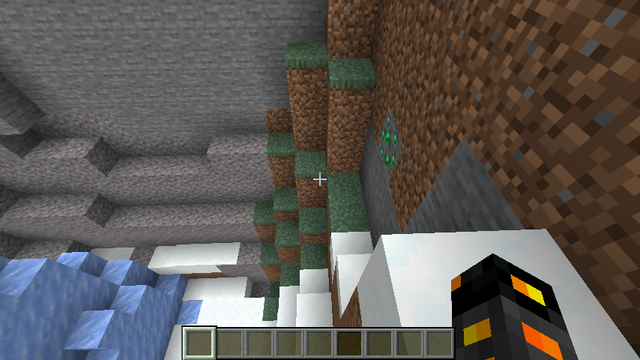emerald: (377, 111, 402, 178)
